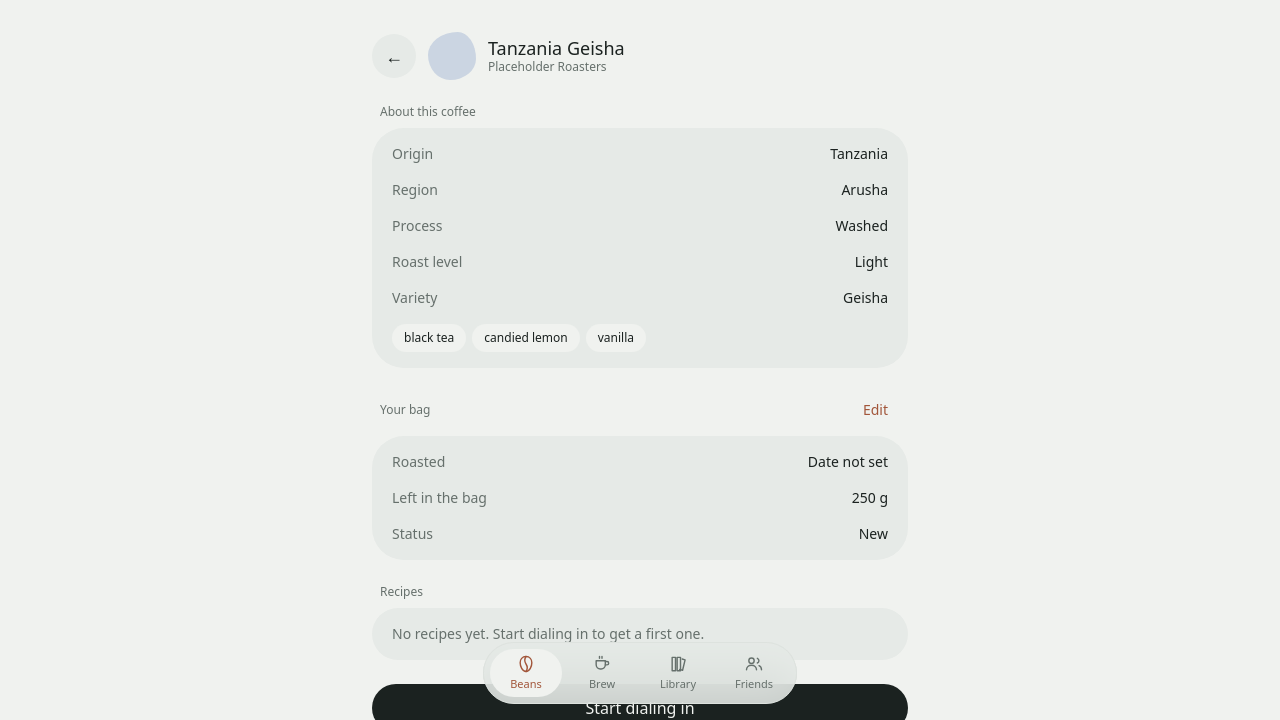
Test: Bag management › refuses a roast date that is not real or is in the future
Click the button "Edit" at {"x": 875, "y": 410}, box [851,392,900,428]
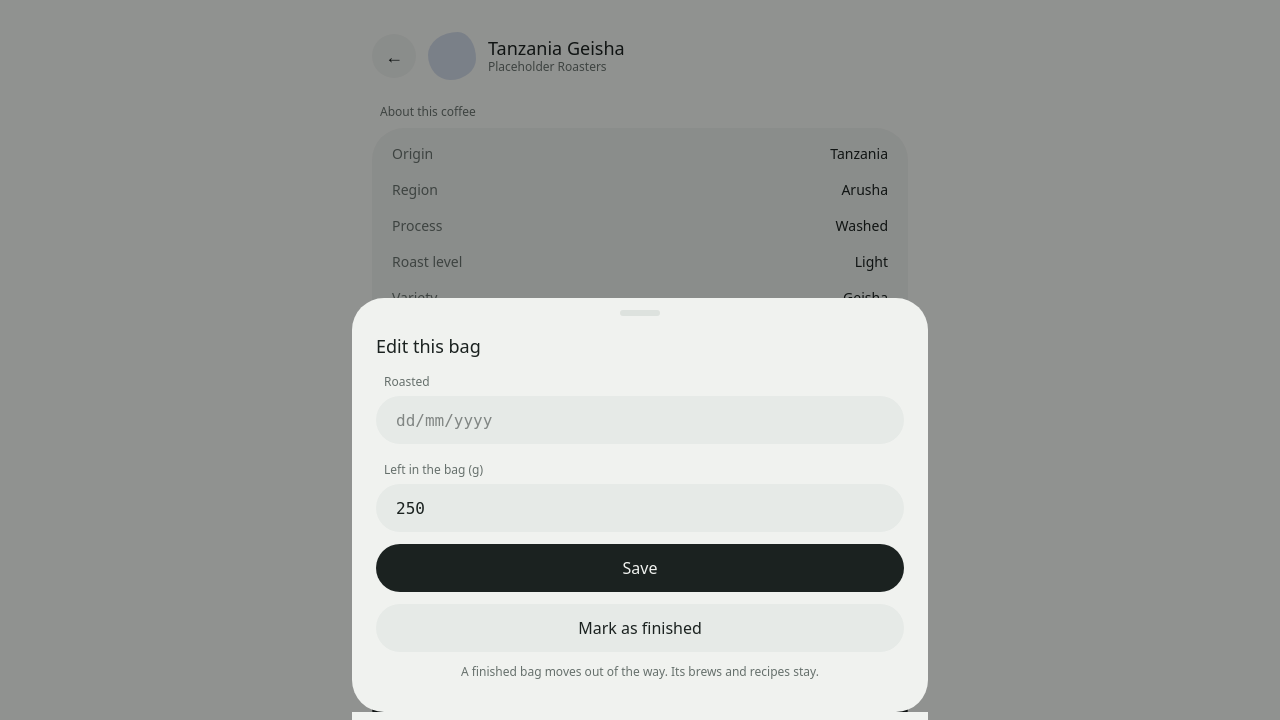
Type "31022026" into the field labelled "Roasted" at {"x": 640, "y": 420}, box [376,396,904,444]
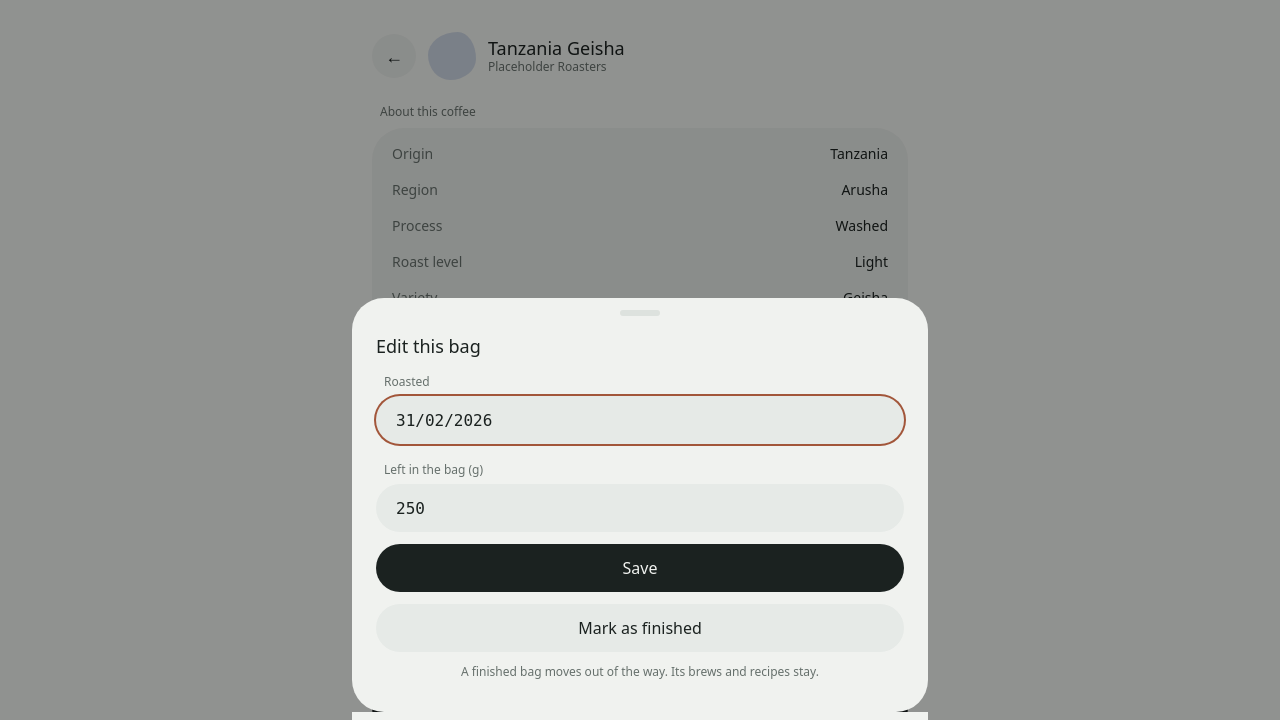
Click the button "Save" at {"x": 640, "y": 568}, box [376,544,904,592]
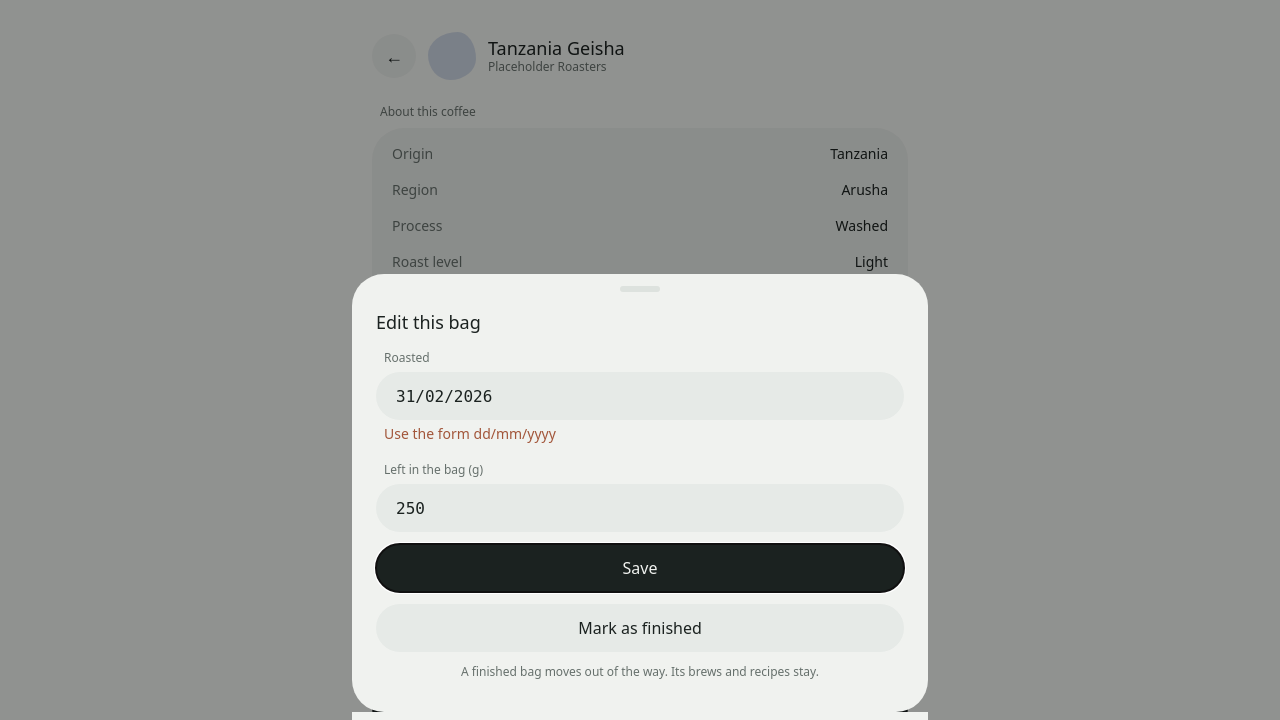
Result: the text "Use the form dd/mm/yyyy" is shown at [384,424,556,443]
